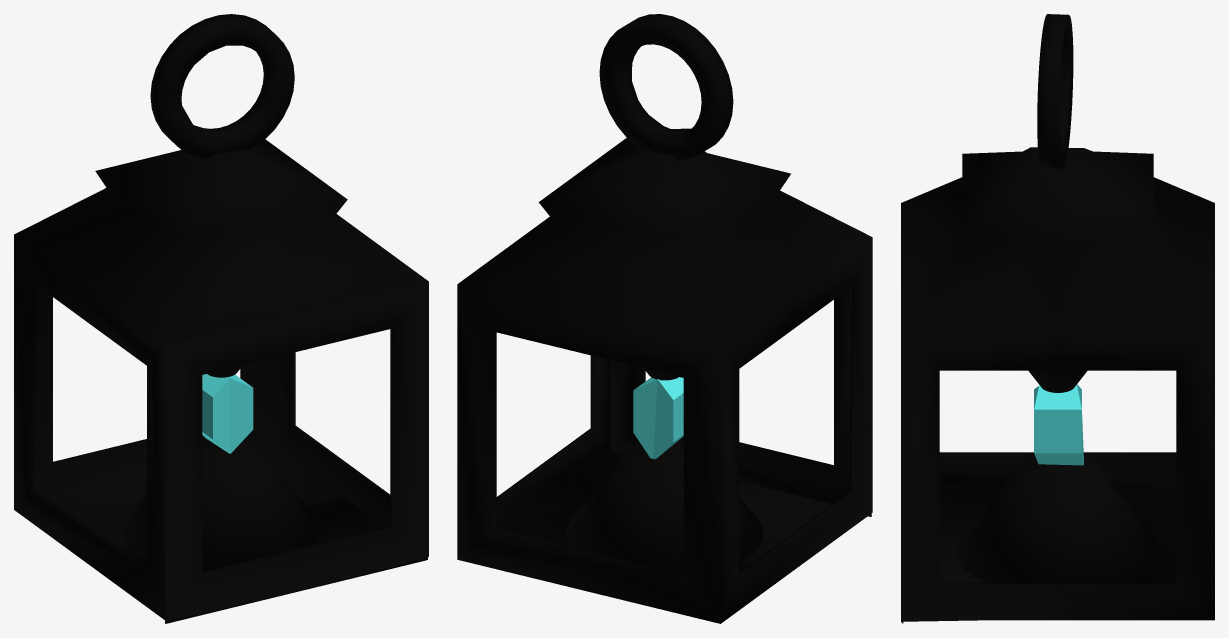
File: farol.fbx
3 views of the same model, side by side, from view 1: azimuth 30°, elevation 25°; view 2: azimuth 150°, elevation 25°; view 3: azimuth 270°, elevation 25° (orthographic). The views are drawn at different scales.
Parts seen in each view (by area): view 1: gema; view 2: gema; view 3: gema.
Part boxes in pixels (x1,y1,x2,y2): gema: [14, 14, 428, 623]; gema: [457, 14, 872, 623]; gema: [901, 14, 1214, 623].
Bounding box in the file's own units: 200 × 377 × 200.
